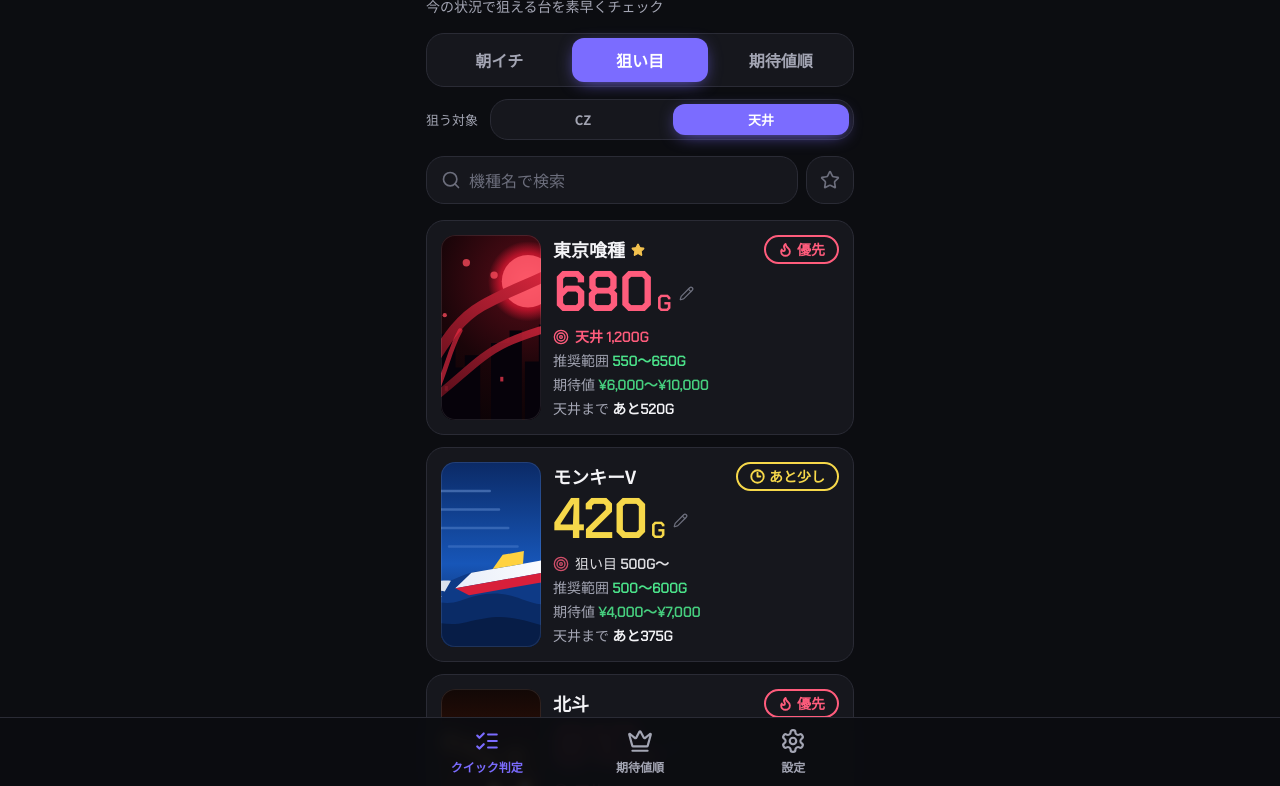
it: 画面 › 期待値順に順位外が表示される
Click the tab "期待値順": (781,60) [712,38,849,82]
(page scrolled)
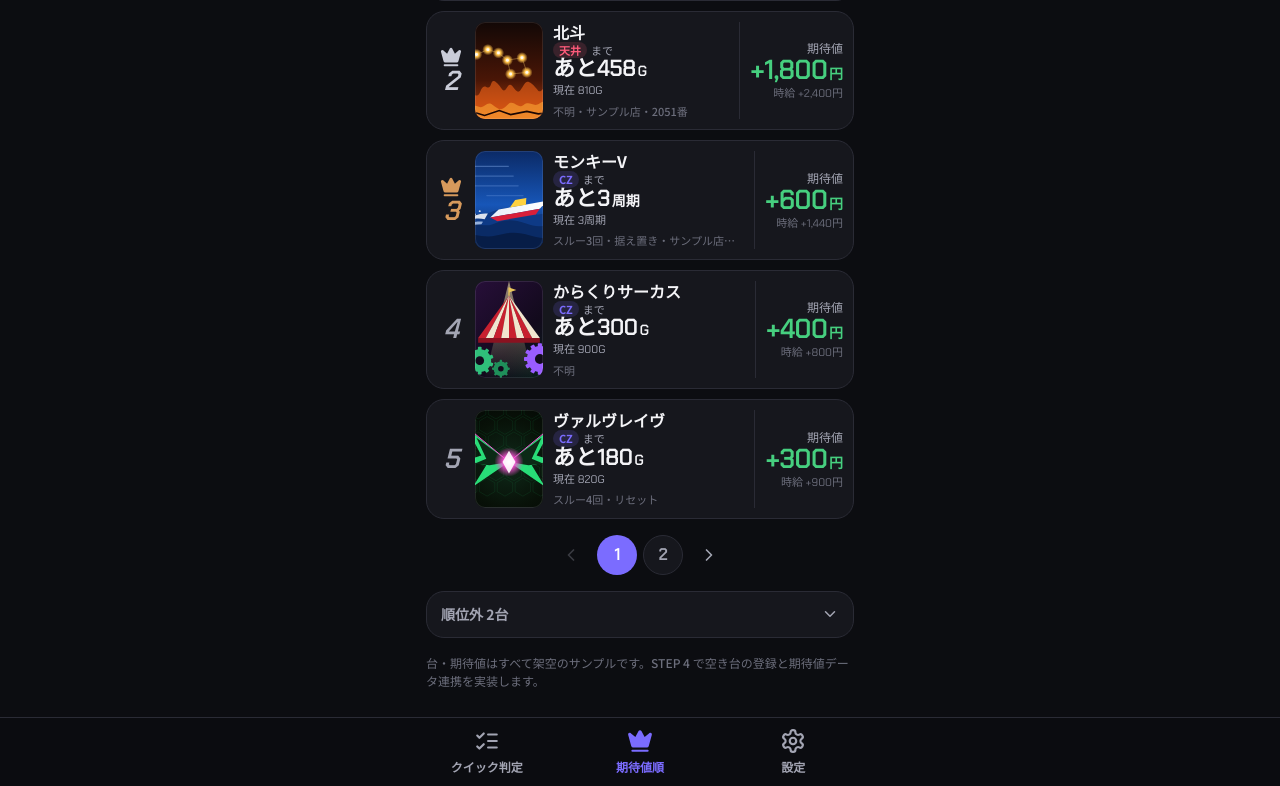
Expected: the button "順位外 2台" is shown
Click the button "順位外 2台": (464,614) [427,592,853,636]
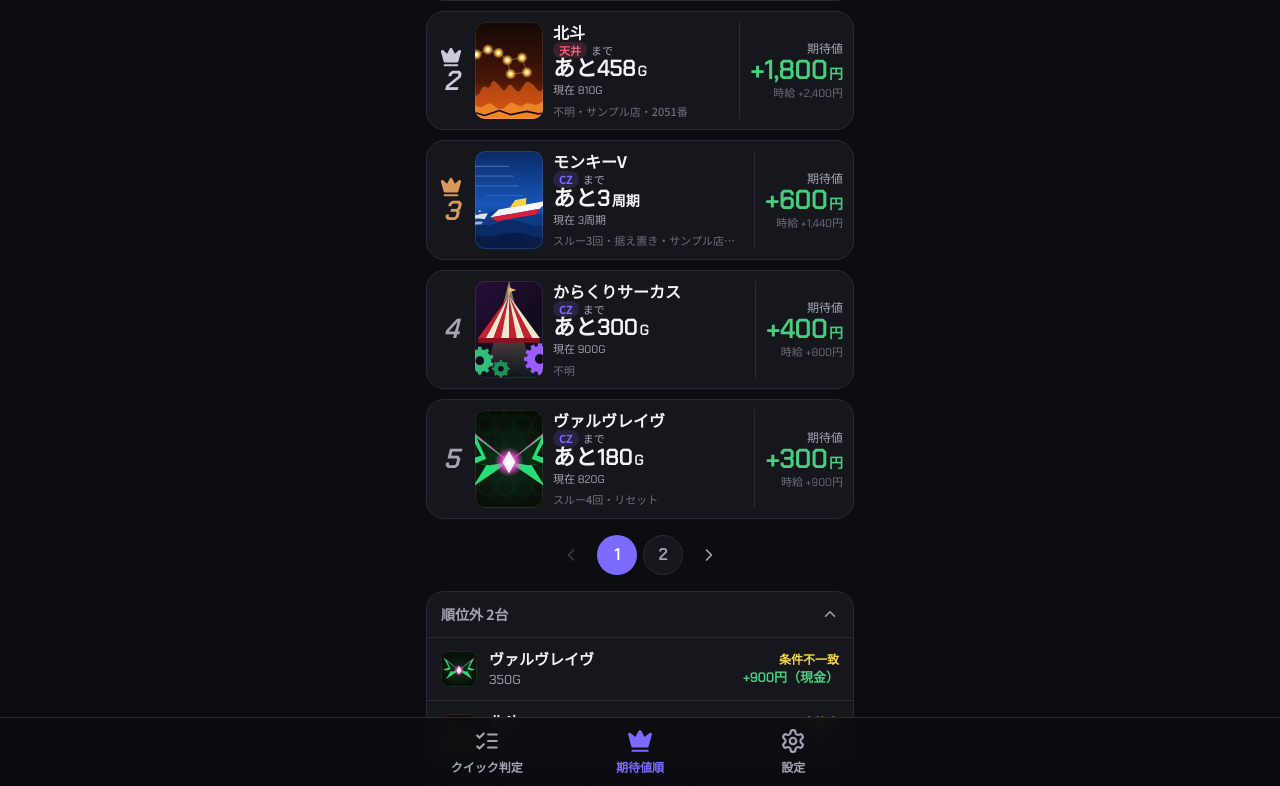
Expected: the text "条件不一致" is shown, [779,650,839,667]
Click the button named "2ページ目": (663,554) [643,534,683,574]
(page scrolled)
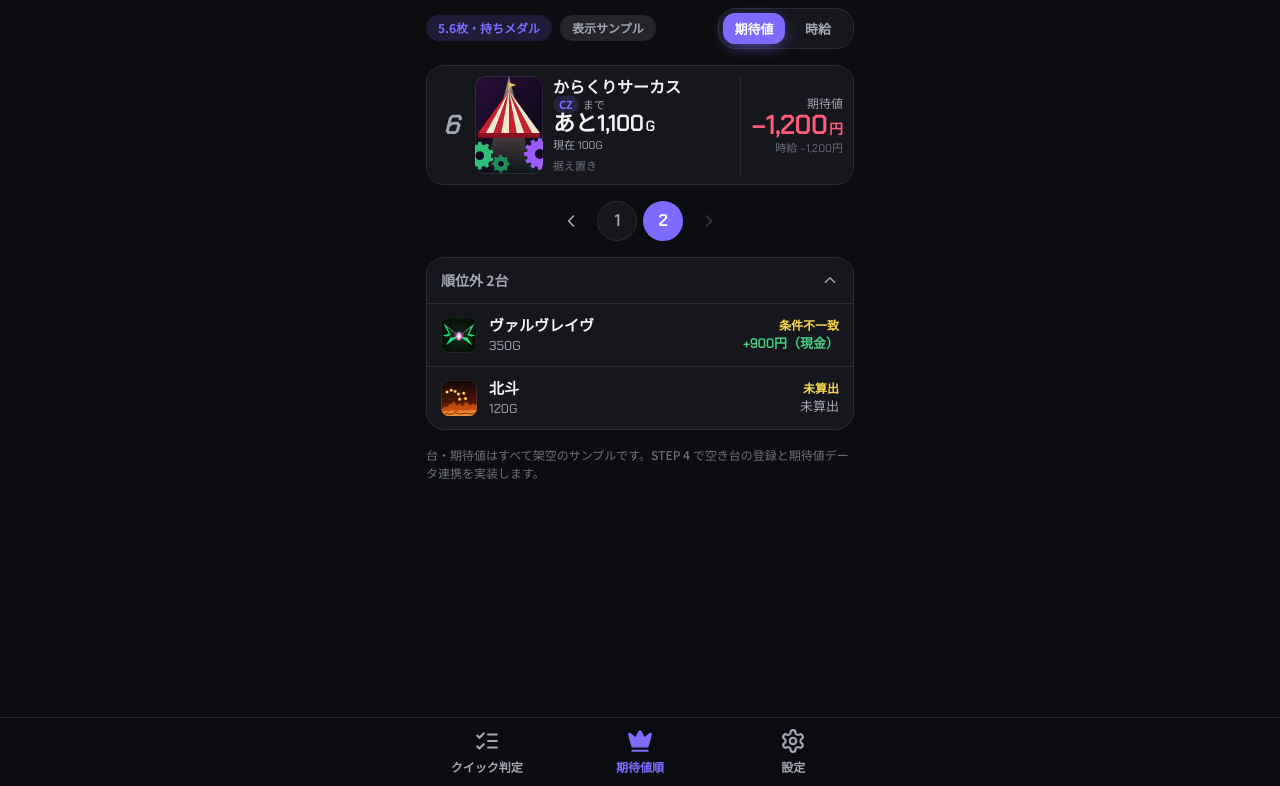
Expected: the element with test id "ev-value" reads "−1,200円", [751,112,843,138]
